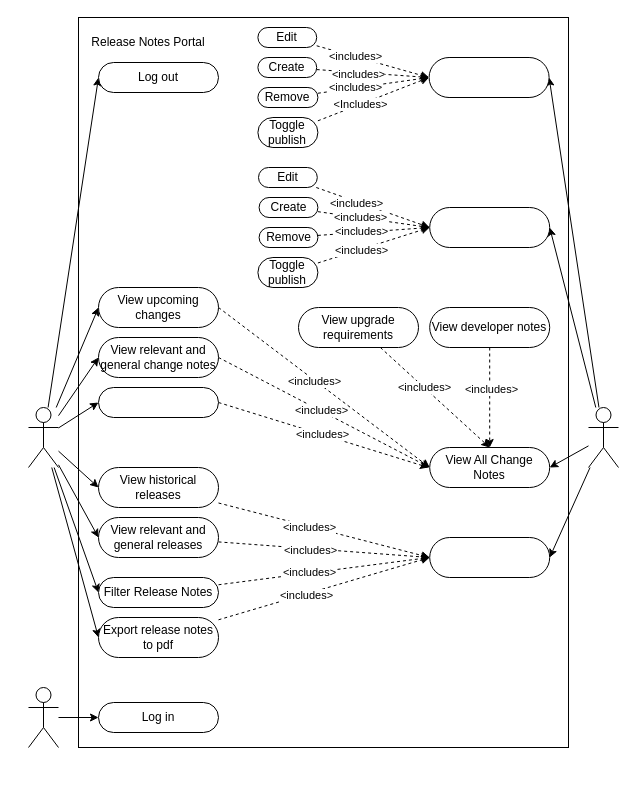
The diagram is 637 pixels wide and 786 high, and some of its shapes have lost their labels. The shapes that lost their labels are listed below. From the top down, each one's box as (x1, y1, x2, y2) in pixels, then its label:
(428, 56, 549, 98): Manage Release Notes
(429, 206, 550, 248): Manage Change Notes
(98, 386, 218, 418): Filter Change Notes
(28, 406, 58, 468): Customer
(588, 406, 618, 468): Admin
(429, 536, 550, 578): View All Release notes
(28, 686, 58, 748): Visitor
